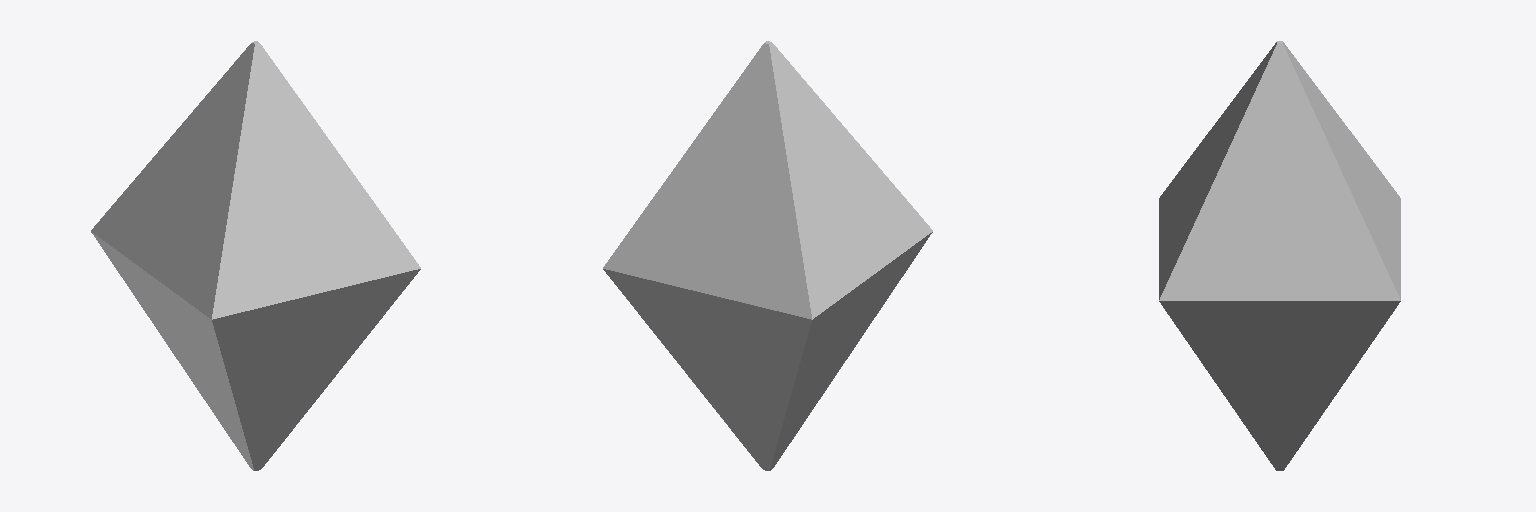
Rendered from diamond.obj.
The picture shows the model from 3 angles: view 1: azimuth 30°, elevation 25°; view 2: azimuth 150°, elevation 25°; view 3: azimuth 270°, elevation 25°; orthographic projection.
Parts seen in each view (by area): view 1: Cube_Cube.001; view 2: Cube_Cube.001; view 3: Cube_Cube.001.
Part boxes in pixels (x1,y1,x2,y2): Cube_Cube.001: (91,41,420,470); Cube_Cube.001: (603,41,932,470); Cube_Cube.001: (1159,41,1400,470).
Size of the model in its own units: 0.3181 by 0.6183 by 0.3181.